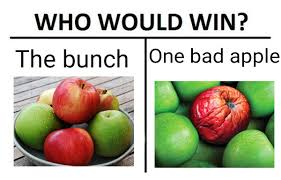apple: (156, 115, 198, 164), (19, 104, 64, 149), (85, 112, 135, 151), (54, 78, 99, 121), (43, 130, 96, 166), (224, 133, 275, 167), (234, 82, 276, 117), (155, 83, 180, 111)
damaged_apple: (196, 90, 251, 144)
